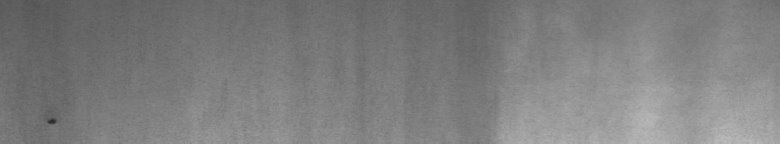fi: (47, 112, 59, 132)
